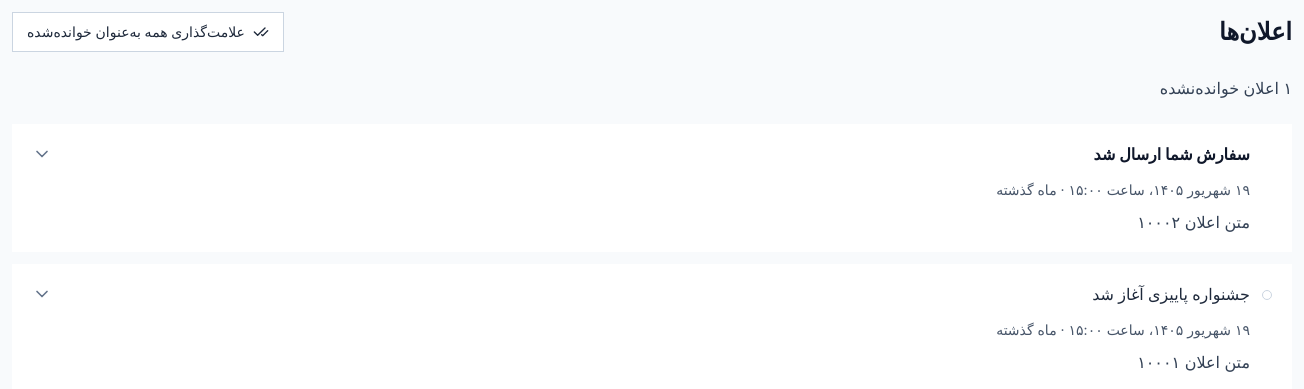
Test: opening a notification › a read one sends nothing
Expected: the text "۱ اعلان خوانده‌نشده" is shown, [1160, 78, 1292, 98]
Click the button "جشنواره پاییزی آغاز شد" at (1171, 294), box [12, 264, 1292, 320]
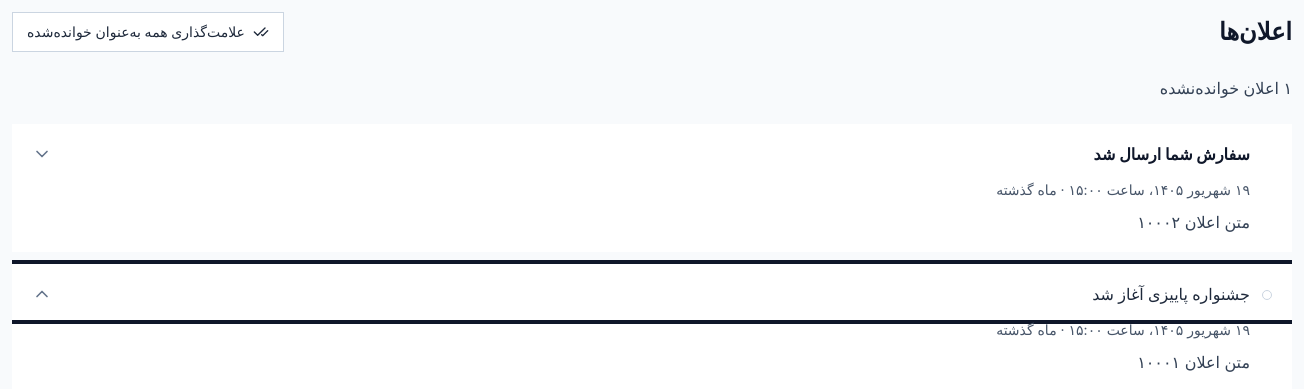
Expected: the button "جشنواره پاییزی آغاز شد" is expanded, [12, 264, 1292, 320]
